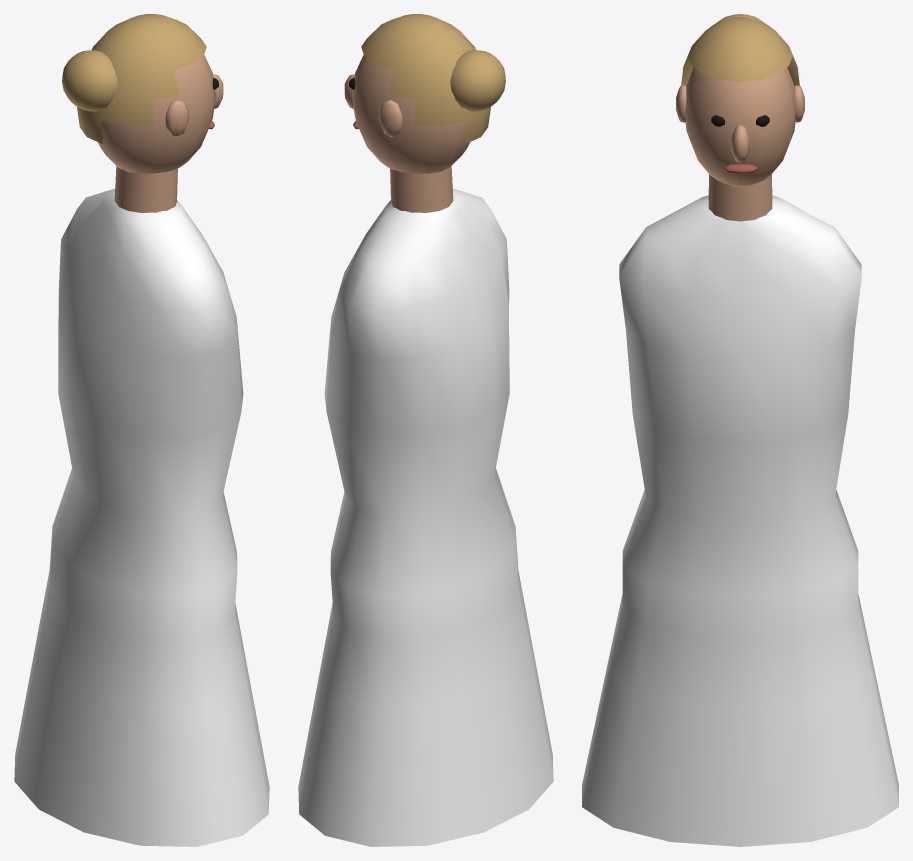
Rendered from body_woman_bun.obj.
3 renders of one model, left to right at view 1: azimuth 30°, elevation 25°; view 2: azimuth 150°, elevation 25°; view 3: azimuth 270°, elevation 25°, orthographic.
Visible parts, largest first — view 1: body_woman_bun_CoatPaint, body_woman_bun_HairBlond, body_woman_bun_Skin; view 2: body_woman_bun_CoatPaint, body_woman_bun_HairBlond, body_woman_bun_Skin; view 3: body_woman_bun_CoatPaint, body_woman_bun_Skin, body_woman_bun_HairBlond.
Part boxes in pixels (x1,y1,x2,y2): body_woman_bun_CoatPaint: (14,188,269,846); body_woman_bun_HairBlond: (62,14,206,143); body_woman_bun_Skin: (98,55,223,212); body_woman_bun_CoatPaint: (298,188,553,846); body_woman_bun_HairBlond: (361,14,505,143); body_woman_bun_Skin: (344,55,469,212); body_woman_bun_CoatPaint: (582,195,898,846); body_woman_bun_Skin: (676,67,804,221); body_woman_bun_HairBlond: (681,14,799,85).
Size of the model in its own units: 0.35 by 1.3 by 0.4582.
Materials: 5 (5 with a texture image).
